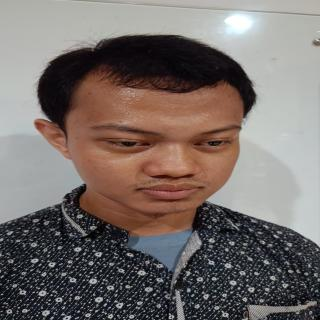Sedih: (58, 72, 274, 220)
